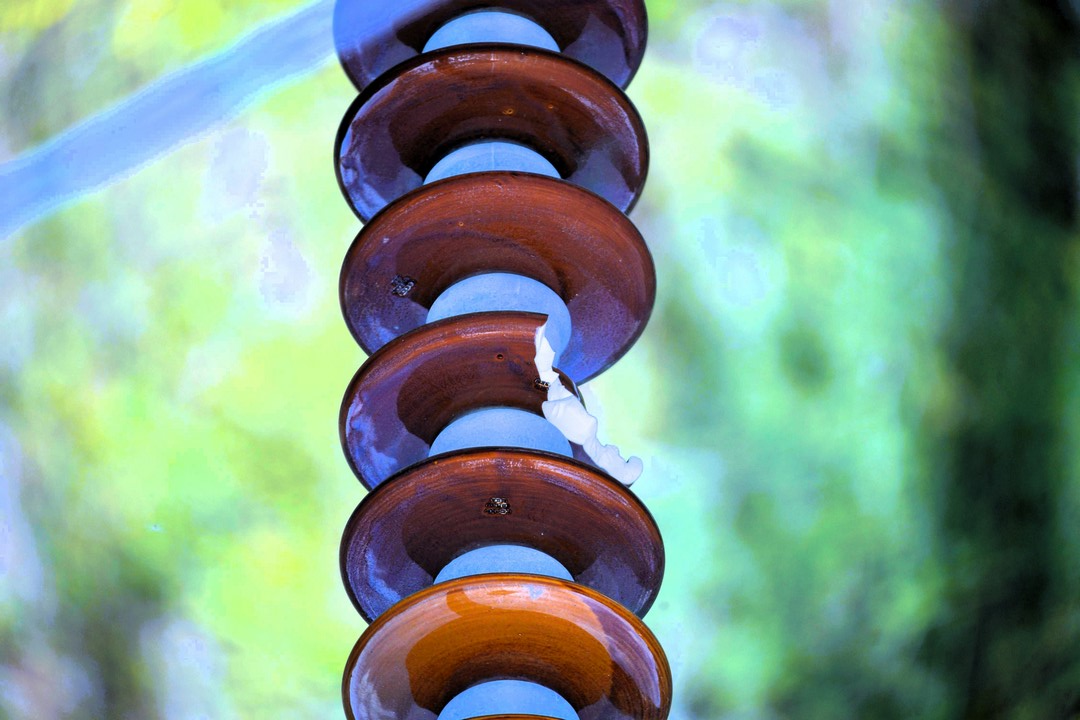insulator breakage: (337, 300, 655, 487)
